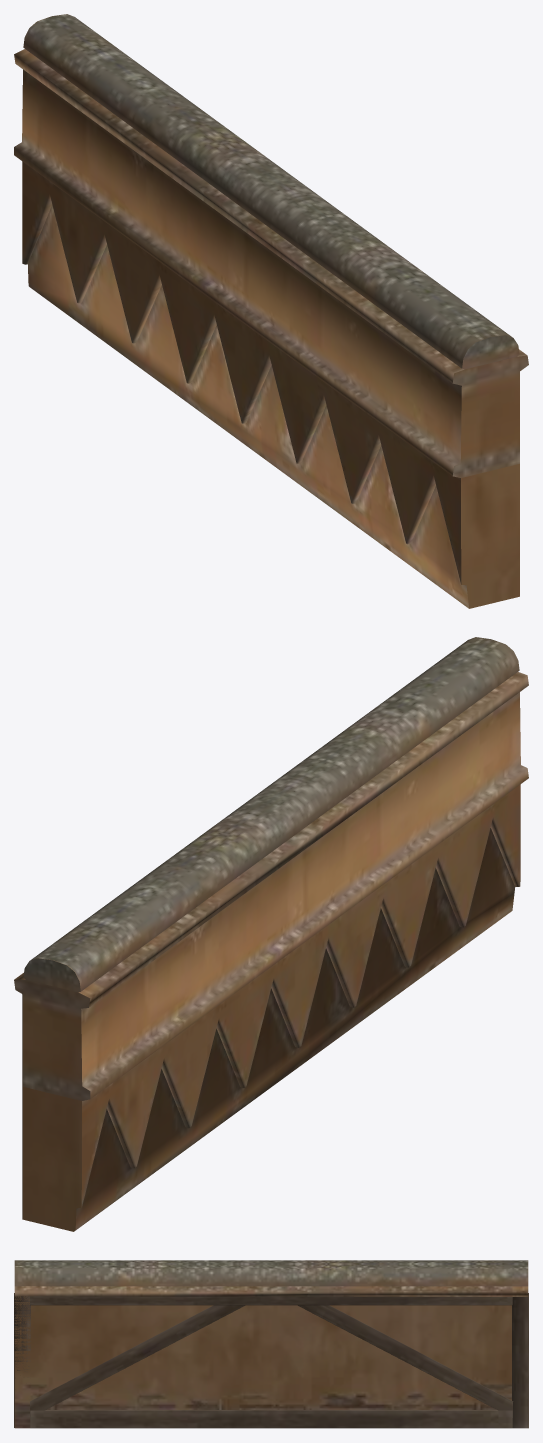
The model's file is wall.low.adobe.glb.
3 renders of one model, top to bottom at view 1: azimuth 30°, elevation 25°; view 2: azimuth 150°, elevation 25°; view 3: azimuth 270°, elevation 25°, orthographic. The views are drawn at different scales.
Visible parts, largest first — view 1: model; view 2: model; view 3: model.
Boxes of the visible parts, bbox=[...] form: model: bbox=[14, 14, 528, 608]; model: bbox=[14, 637, 528, 1231]; model: bbox=[14, 1260, 528, 1428].
Size of the model in its own units: 0.3013 by 1.01 by 3.01.
1 material, 1 textured.
